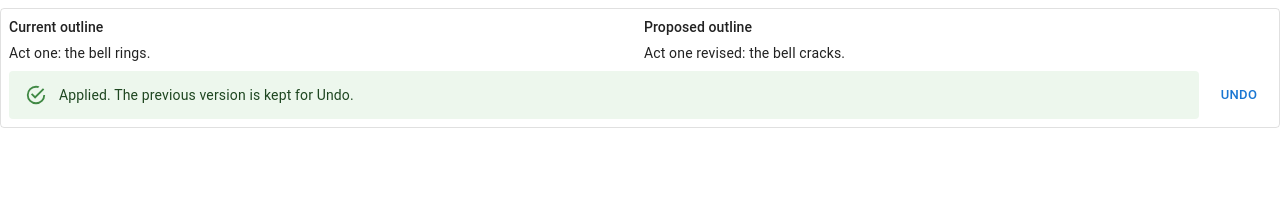
Test case: OutlineRevision › an undo of a version that is gone says so with a reference and drops the Undo
Click the button "Undo" at {"x": 1239, "y": 95}, box [1207,80,1271,110]
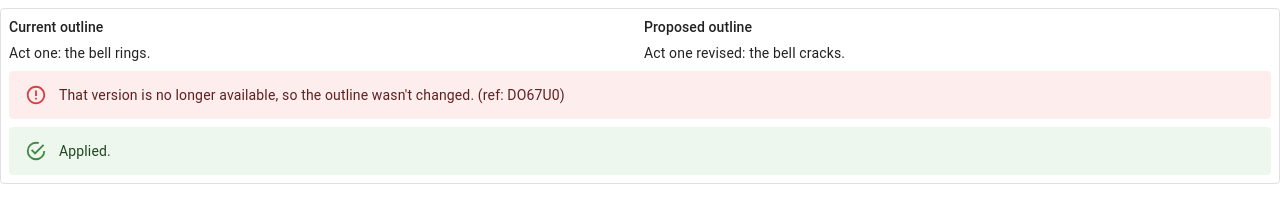
expect the text "no longer available" is shown: met, box [59,87,565,103]
